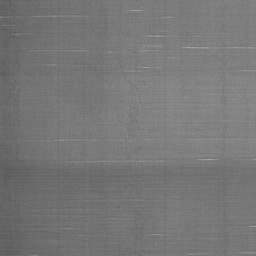Waist folding: (0, 15, 256, 73), (19, 134, 256, 165), (135, 233, 256, 256), (0, 14, 90, 37), (18, 226, 73, 231), (106, 8, 144, 14), (99, 199, 142, 203)
